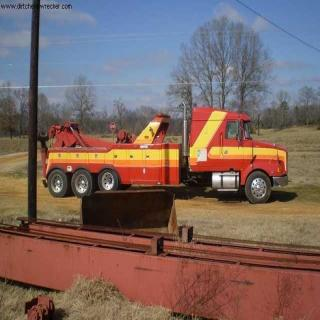Towing_truck: (38, 100, 290, 204)
